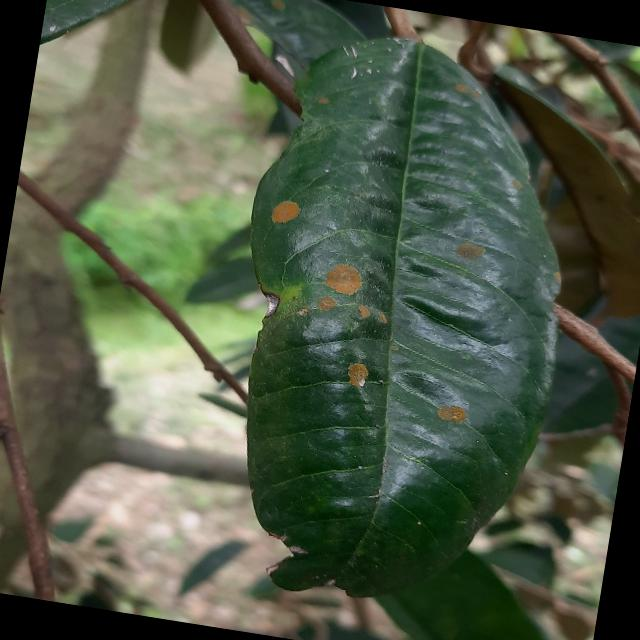Algal Leaf Spot: (193, 3, 614, 630)
